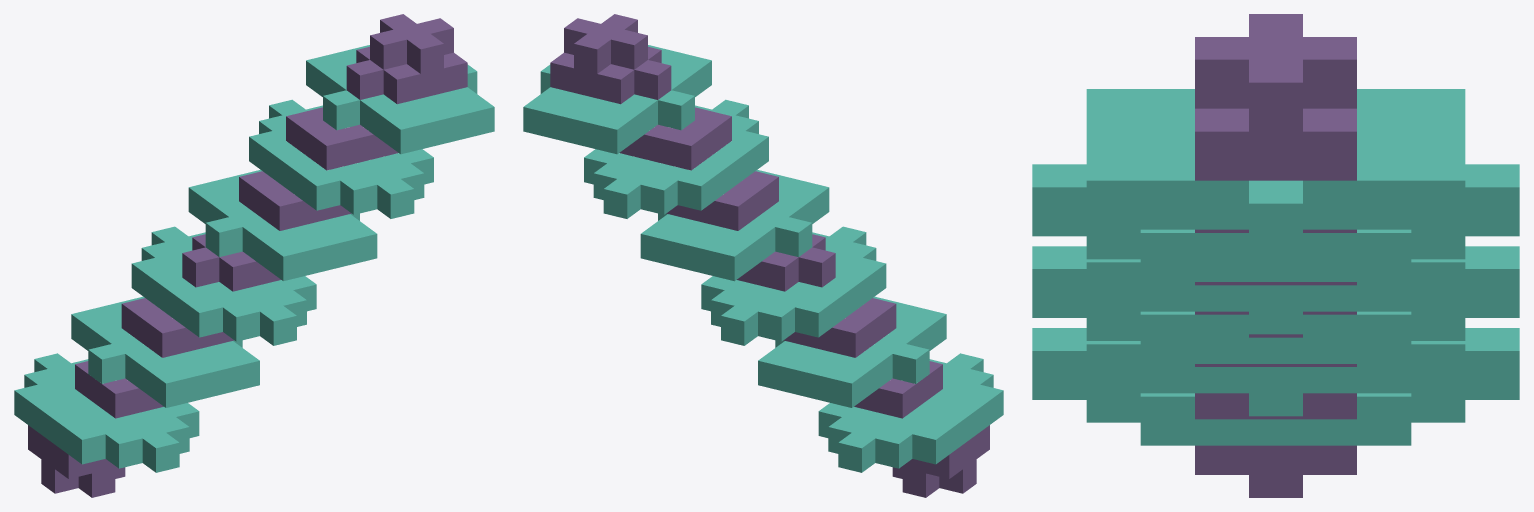
The model's file is alien-biosphere-leaf-stair-84c474bd__22827.glb.
3 views of the same model, side by side, from view 1: azimuth 30°, elevation 25°; view 2: azimuth 150°, elevation 25°; view 3: azimuth 270°, elevation 25° (orthographic). The views are drawn at different scales.
Parts seen in each view (by area): view 1: leaf-stair; view 2: leaf-stair; view 3: leaf-stair.
Part boxes in pixels (left/top/right/bottom): leaf-stair: left=14, top=14, right=494, bottom=497; leaf-stair: left=523, top=14, right=1003, bottom=497; leaf-stair: left=1032, top=14, right=1519, bottom=497.
Size of the model in its own units: 3.6 by 3 by 1.8.
